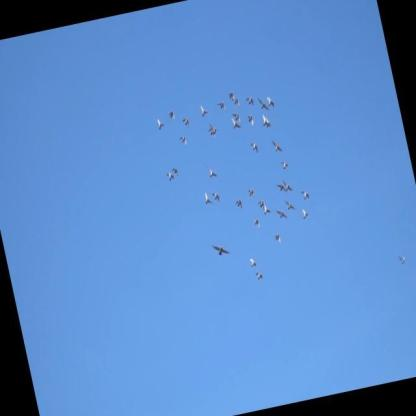bird: (211, 240, 231, 258), (282, 178, 295, 195), (258, 95, 271, 112), (284, 197, 297, 213), (271, 137, 283, 154), (231, 110, 243, 127), (396, 252, 409, 267), (229, 116, 242, 131), (206, 163, 218, 179), (276, 207, 288, 222), (275, 179, 287, 194), (216, 99, 227, 115), (209, 122, 219, 139), (165, 170, 177, 184), (199, 103, 210, 118), (265, 94, 275, 110), (246, 112, 256, 128), (155, 117, 166, 131), (181, 115, 192, 129), (211, 190, 222, 204), (203, 190, 213, 205), (272, 232, 282, 247), (262, 202, 272, 217), (250, 140, 260, 155), (260, 113, 270, 128), (233, 197, 244, 210), (300, 189, 311, 202), (230, 96, 241, 109), (178, 134, 188, 147), (301, 207, 310, 221), (248, 257, 258, 269), (280, 159, 290, 171), (167, 109, 176, 122), (263, 115, 272, 128), (255, 271, 265, 282), (245, 95, 255, 106), (227, 90, 236, 102), (247, 186, 255, 198), (253, 218, 261, 230), (256, 198, 265, 208), (172, 166, 180, 177), (207, 127, 215, 138)
